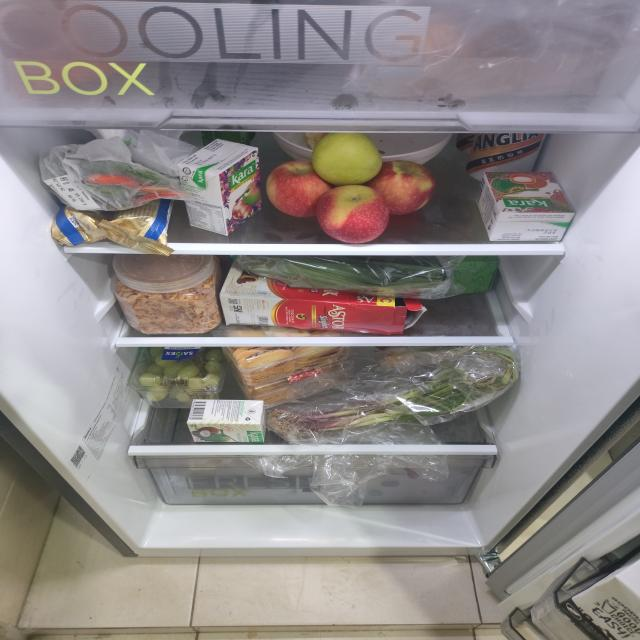apple: (266, 132, 436, 244)
chili: (84, 163, 184, 206)
coconut_milk: (176, 138, 263, 235), (476, 171, 576, 242), (186, 398, 266, 444)
grape: (138, 346, 223, 404)
leafy_greens: (245, 255, 451, 300)
spring_onion: (268, 346, 522, 438)
